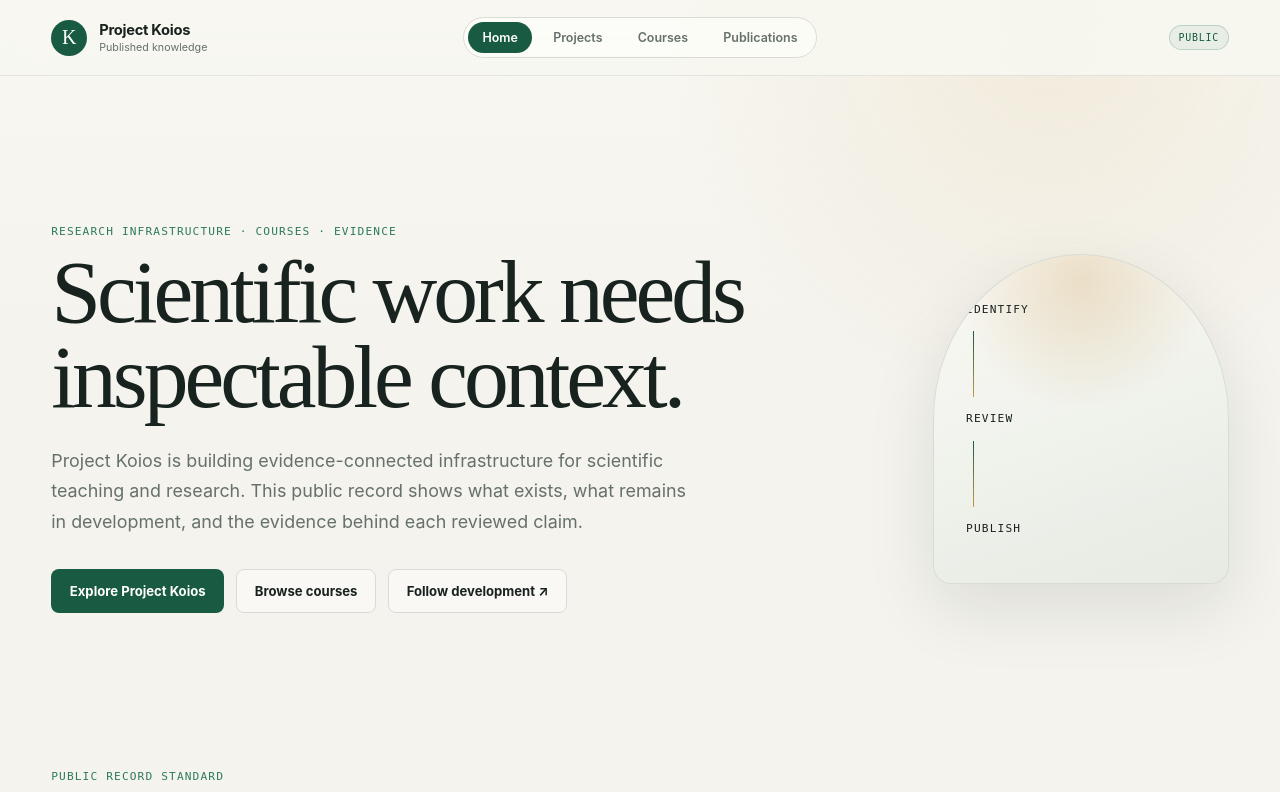
Test: public profile exposes the project catalog route
The width and height of the screenshot is (1280, 792).
Click the link "Projects" at [578, 38], box left=553, top=30, right=602, bottom=45
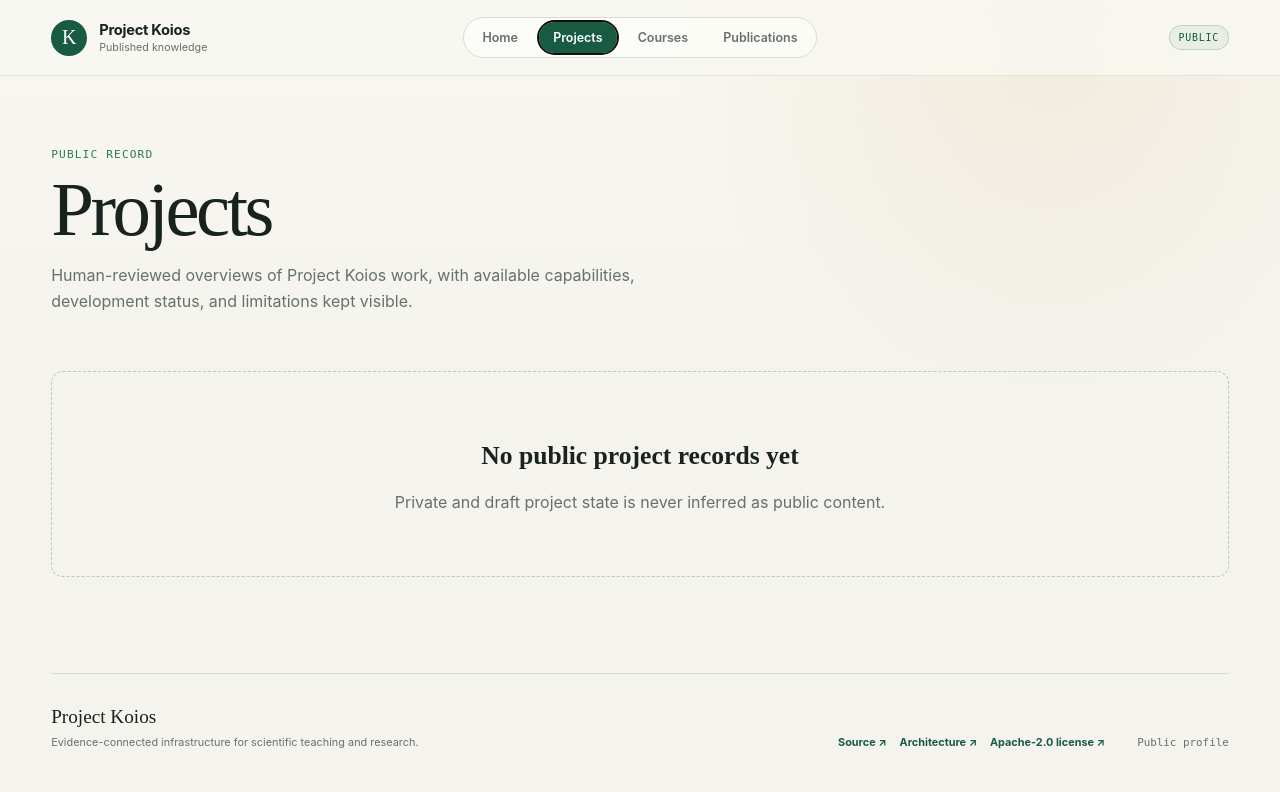
Check: the heading "Projects" is shown, box left=51, top=167, right=271, bottom=252
Check: the heading "No public project records yet" is shown, box left=481, top=441, right=799, bottom=470
